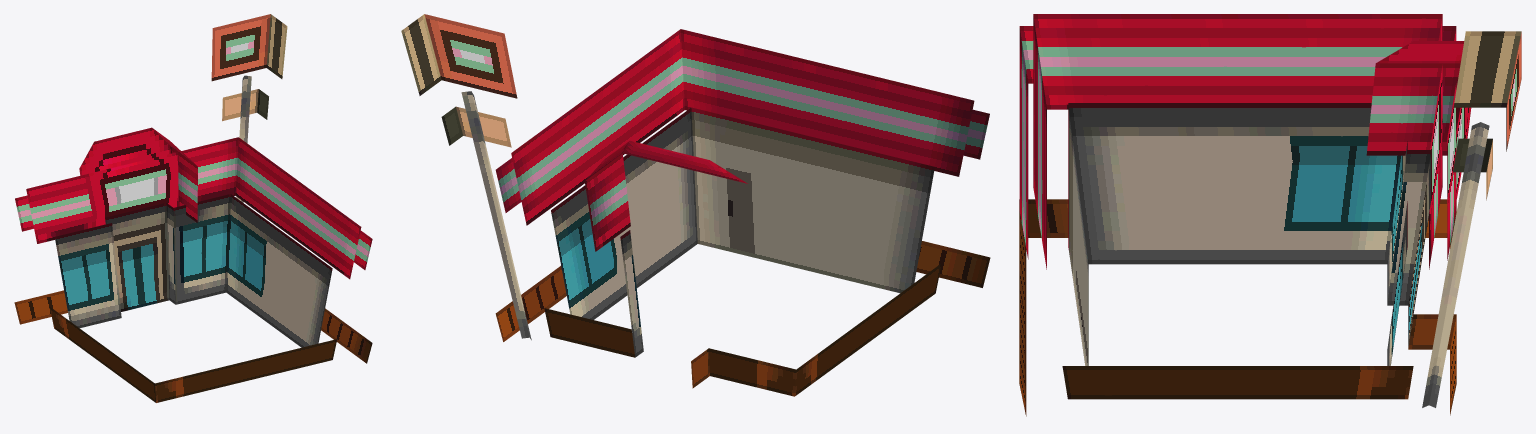
File: ps2_save-icons_theconveni3.glb
The picture shows the model from 3 angles, left to right: view 1: azimuth 30°, elevation 25°; view 2: azimuth 150°, elevation 25°; view 3: azimuth 270°, elevation 25°; orthographic projection. The views are drawn at different scales.
Parts seen in each view (by area): view 1: icon1.ico; view 2: icon1.ico; view 3: icon1.ico.
Boxes of the visible parts, x1=… form: icon1.ico: x1=14, y1=14, x2=372, y2=402; icon1.ico: x1=401, y1=14, x2=990, y2=396; icon1.ico: x1=1019, y1=14, x2=1521, y2=416.
Bounding box in the file's own units: 2.57 × 2.03 × 2.43.
1 material, 1 textured.
